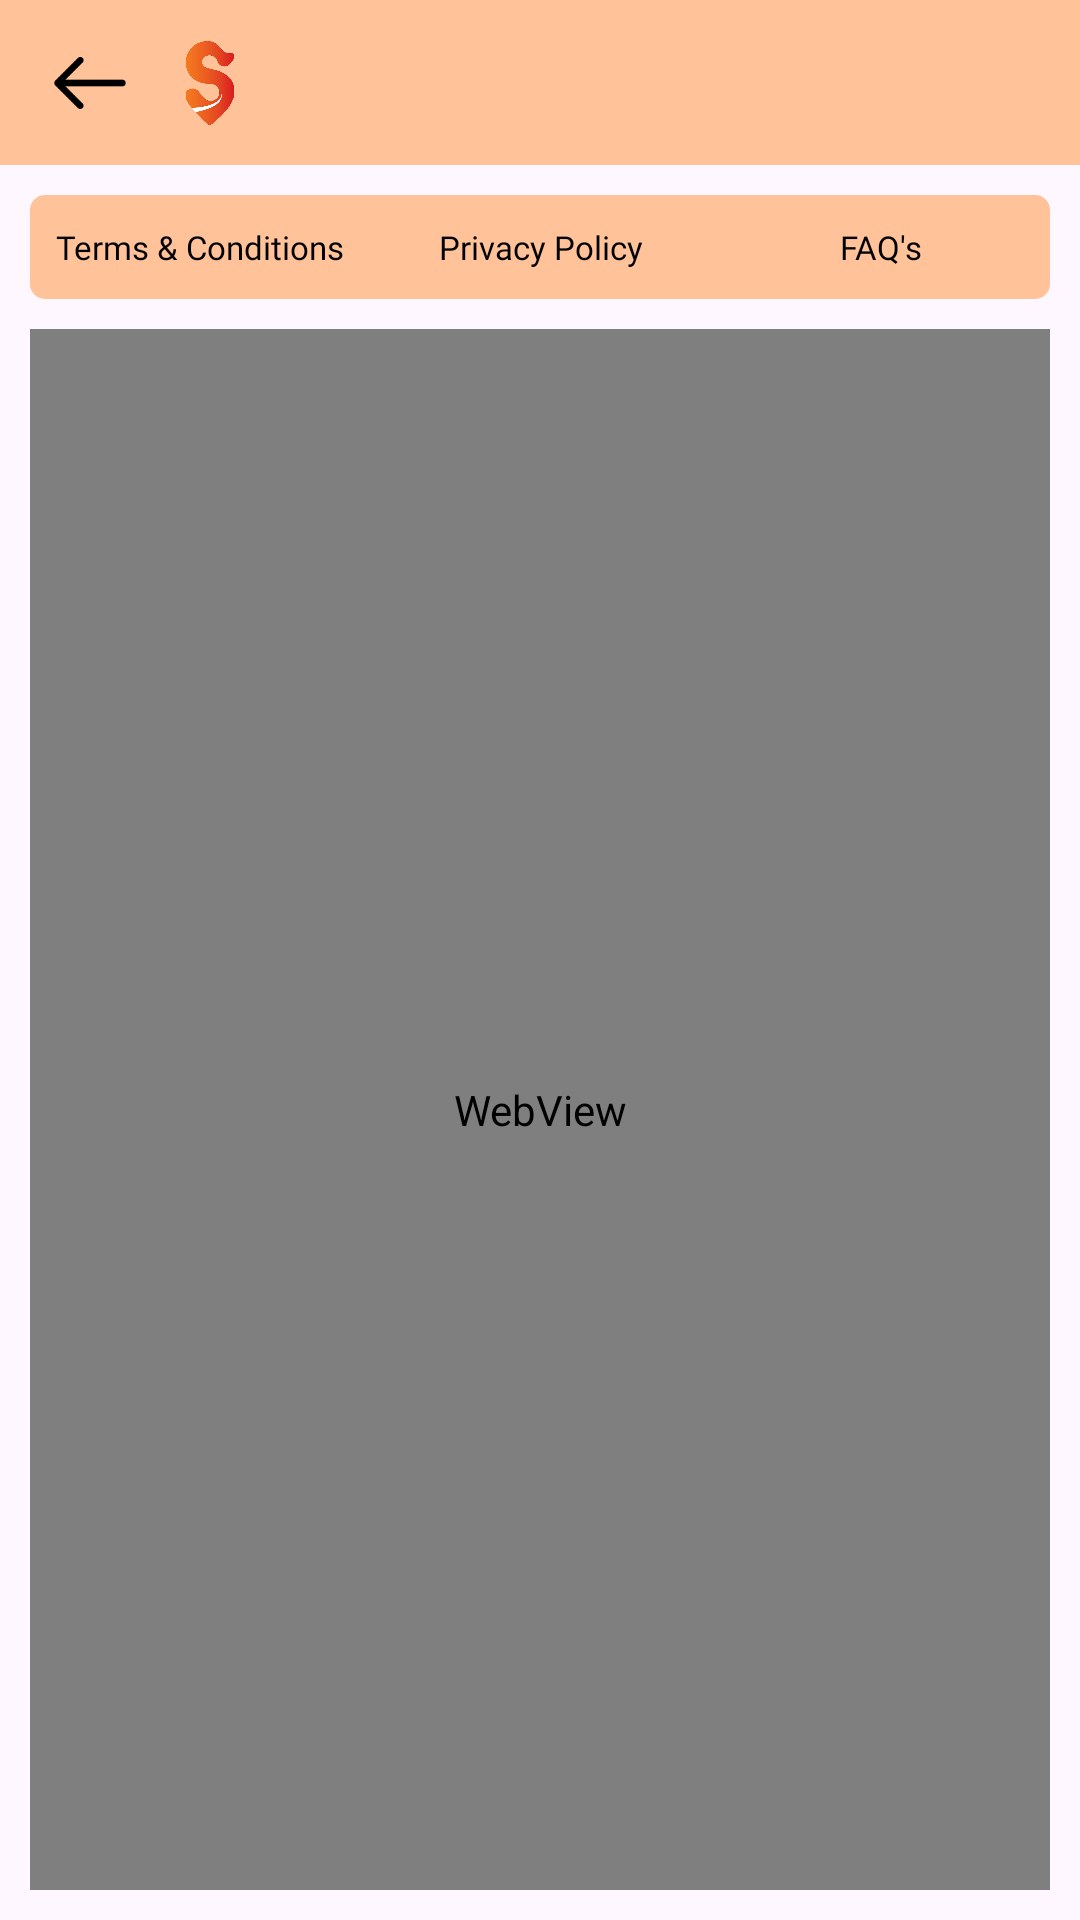

Icon bounding boxes for this 1080*1920 phone screenshot, format (x1, y1, x2, y2):
toolbar back button: (54, 57, 126, 109)
